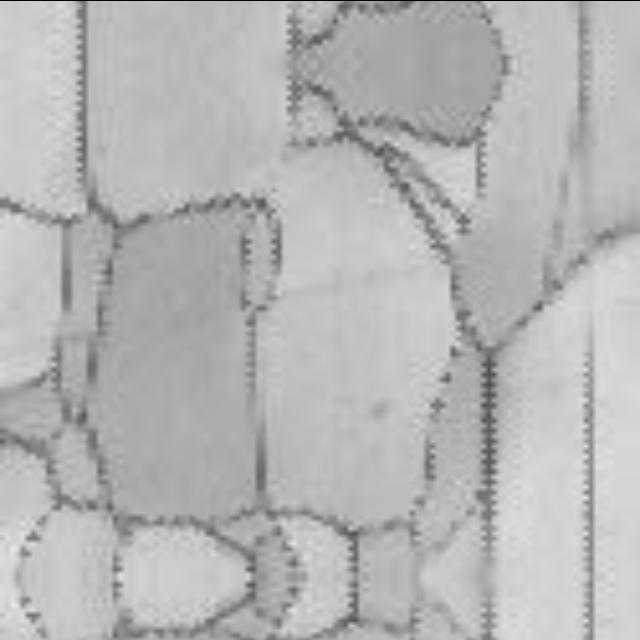good_void: (369, 392, 392, 422)
